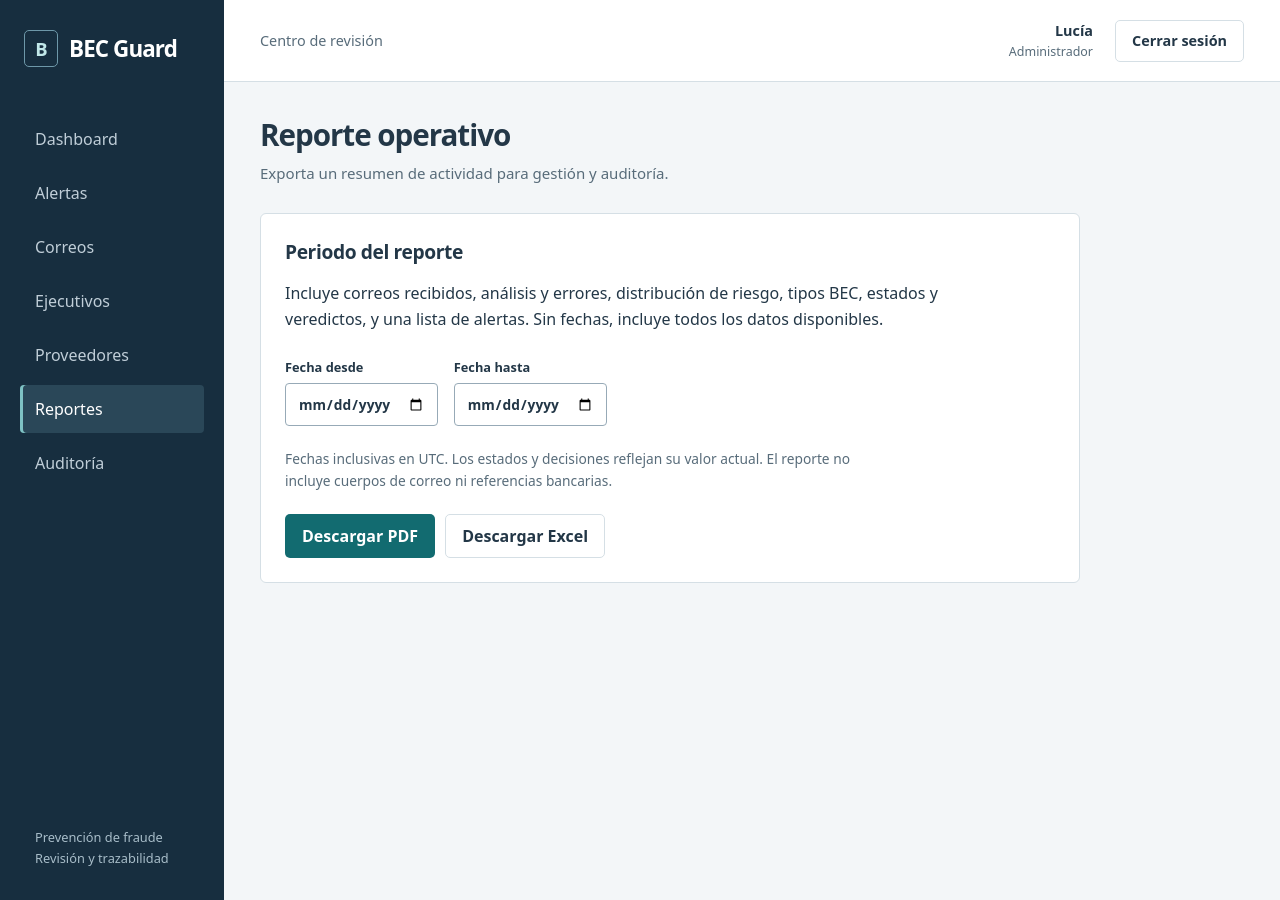
Test case: download HTTP 403 displays feedback and retains session
This screenshot has width=1280, height=900.
Click the button "Descargar PDF" at {"x": 360, "y": 536}, box [285,514,435,558]
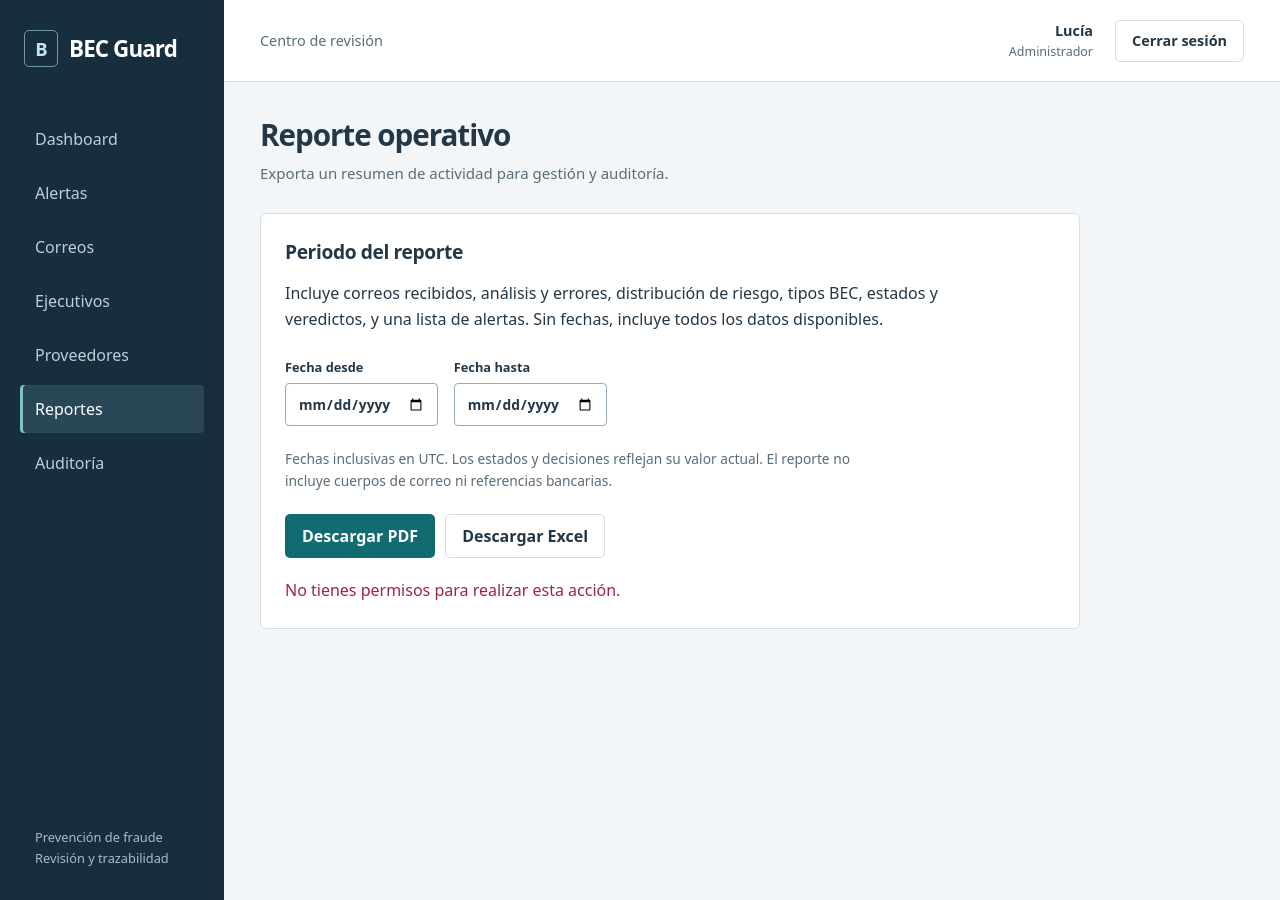
Expected: the message "No tienes permisos para realizar esta acción." is shown, [285,579,620,601]
